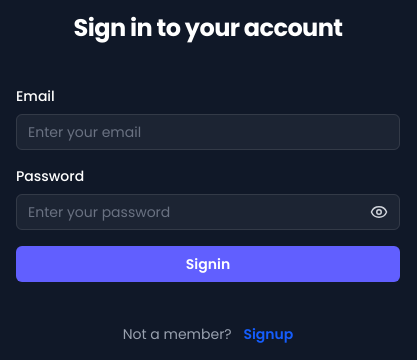
LoginForm › toggles password visibility
This screenshot has width=417, height=360.
Click the button named "show password". click: (379, 212)
box: [370,194,388,230]
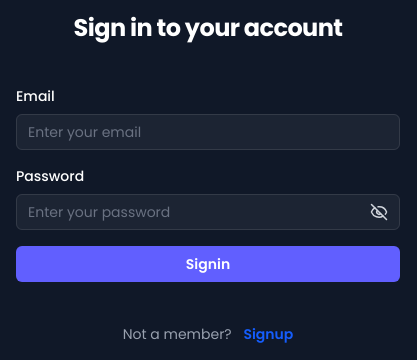
Expected: the button named "hide password" is shown, [370,194,388,230]
